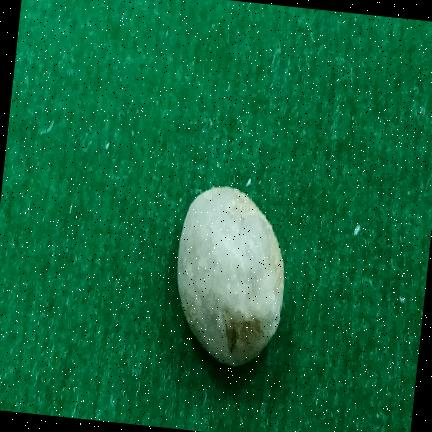good: (178, 187, 284, 366)
